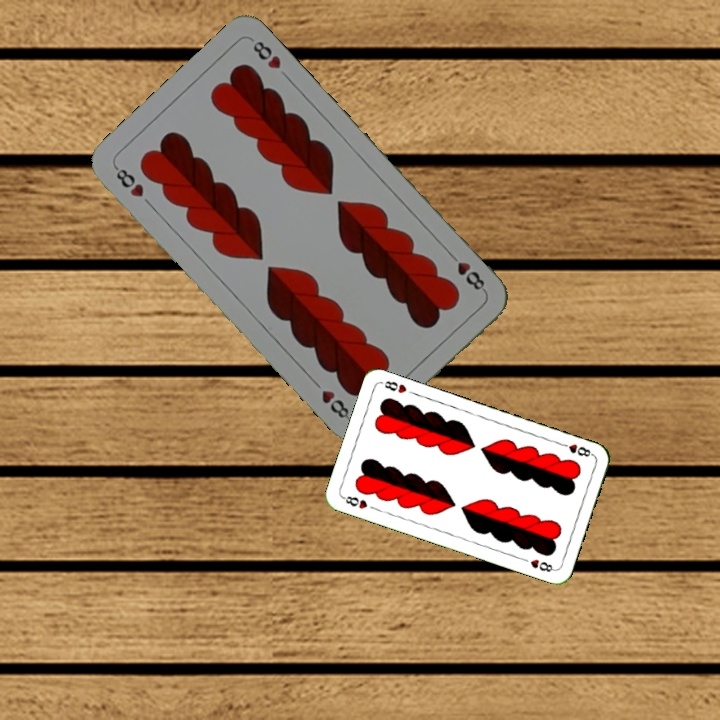H8: (444, 248, 489, 294), (110, 162, 146, 200), (556, 439, 596, 459), (339, 492, 370, 511)
